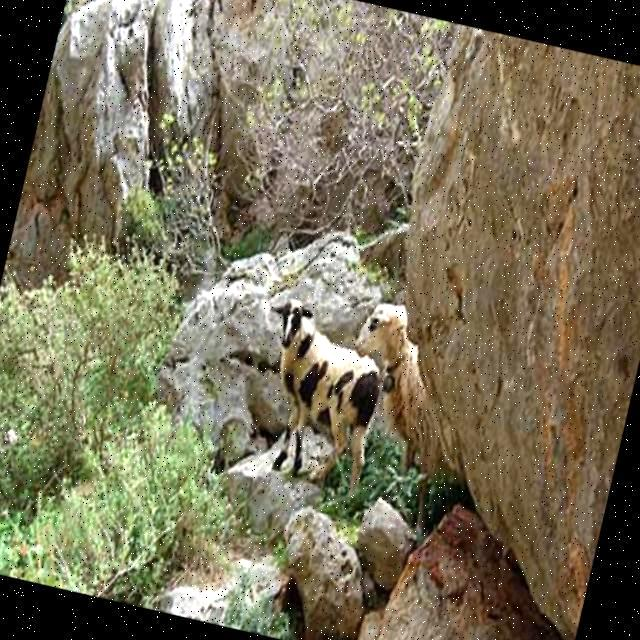sheep: (269, 300, 377, 487), (355, 305, 445, 480)
